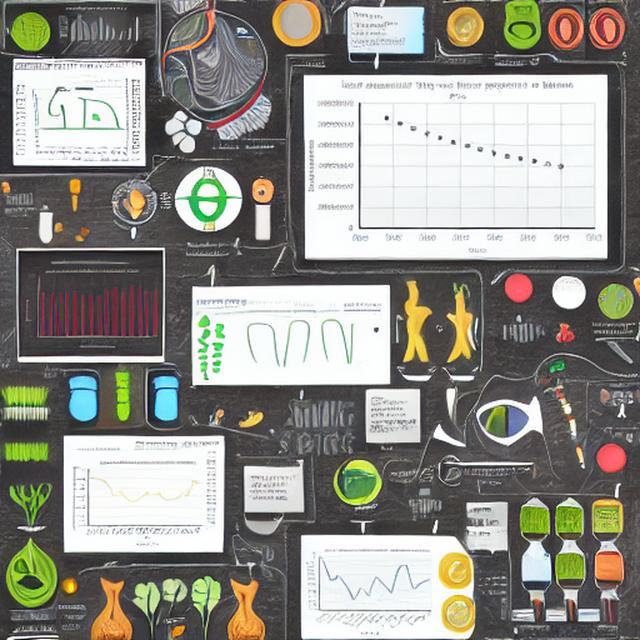Graph: (307, 78, 605, 257), (303, 546, 435, 638), (22, 267, 163, 352), (69, 458, 204, 541), (53, 5, 142, 58)
